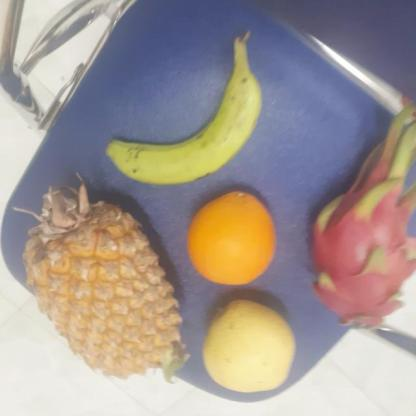banana: (113, 61, 268, 183)
orange: (187, 192, 280, 285)
pineapple: (27, 180, 186, 376)
pitaya: (308, 186, 415, 331)
